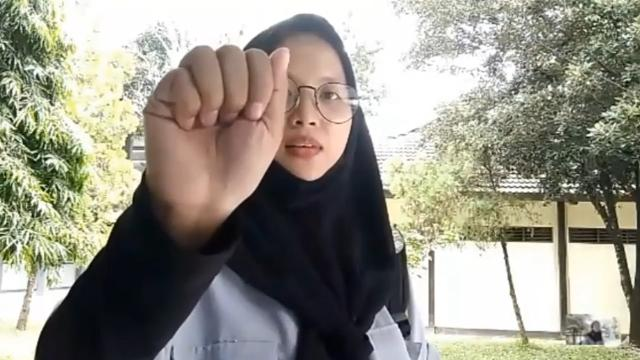A: (138, 42, 296, 214)
